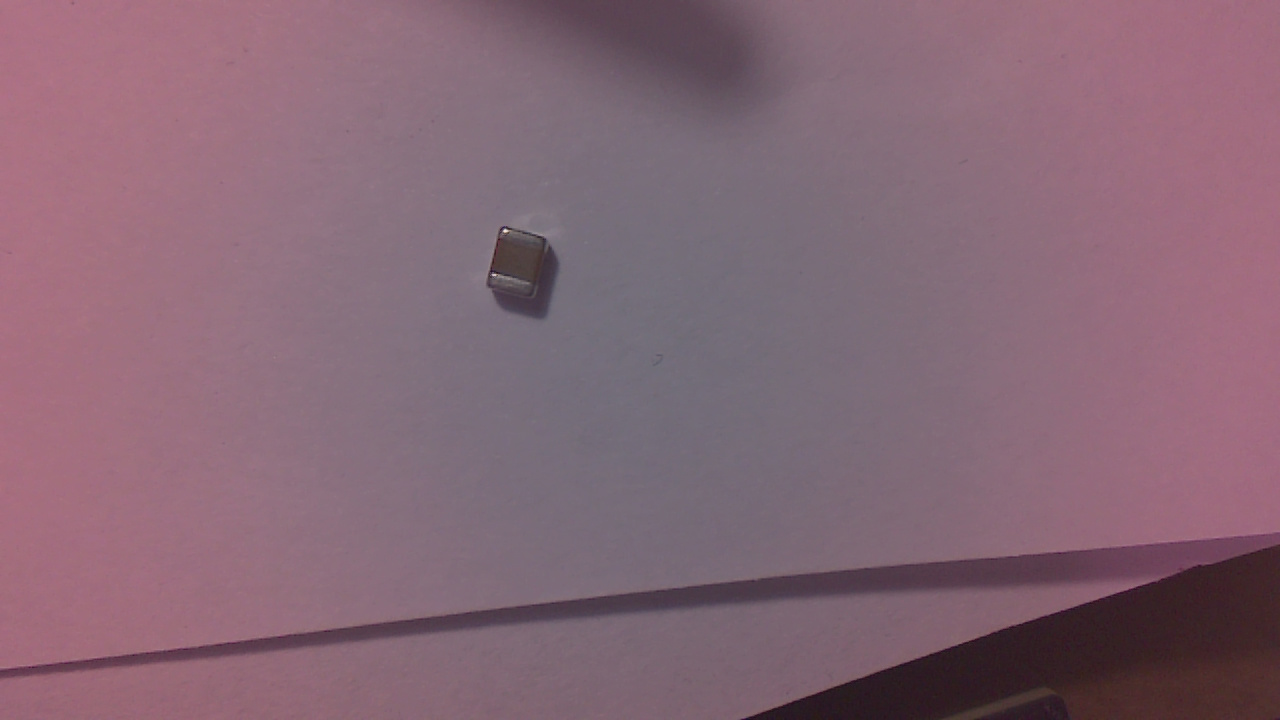Condensator: (489, 231, 560, 304)
